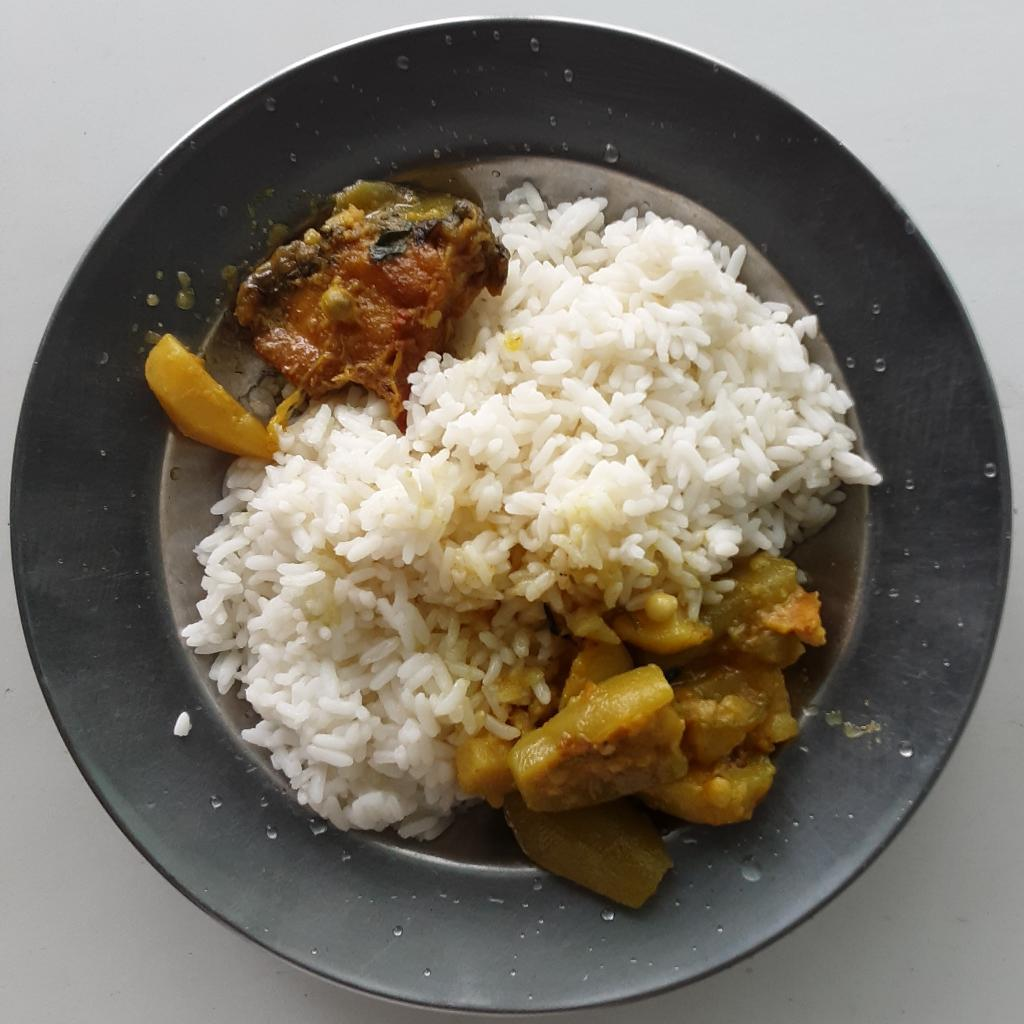fish: (235, 178, 512, 424)
potato: (143, 334, 277, 456)
potol: (448, 551, 831, 908)
rice: (185, 181, 883, 848)
